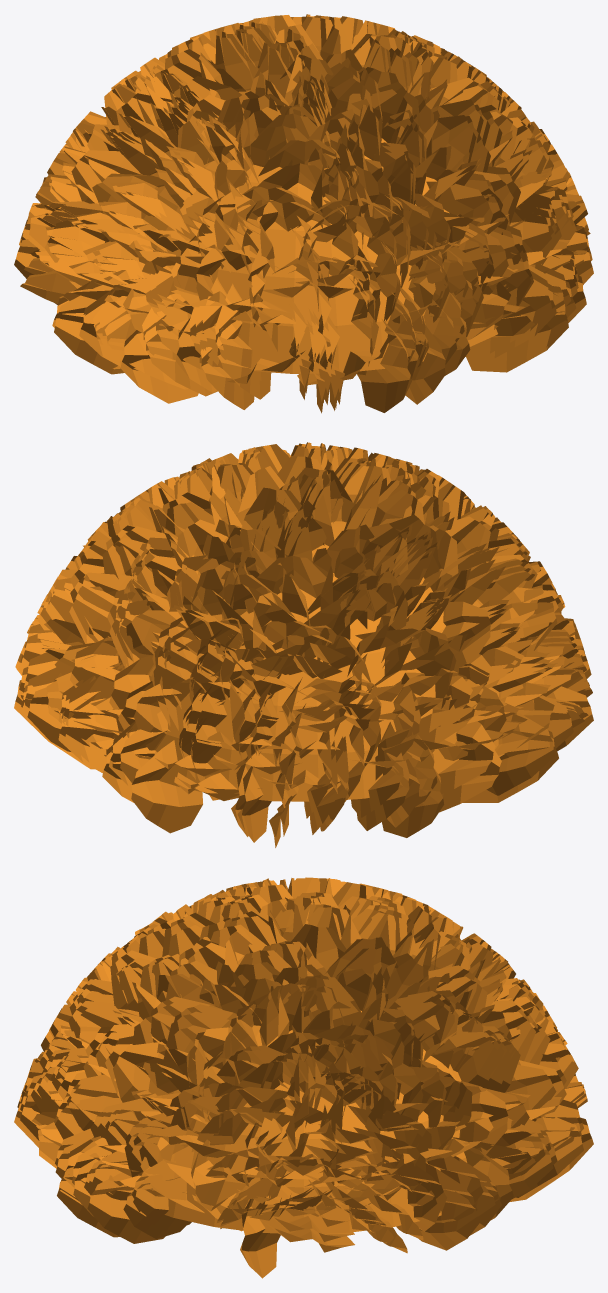
The model's file is Cempasuchil.fbx.
3 renders of one model, top to bottom at view 1: azimuth 30°, elevation 25°; view 2: azimuth 150°, elevation 25°; view 3: azimuth 270°, elevation 25°, orthographic.
Visible parts, largest first — view 1: Base.001, Base.001|Petalo|Dupli|906, Base.001|Petalo|Dupli|1048, Base.001|Petalo|Dupli|1030, Base.001|Petalo|Dupli|860, Base.001|Petalo|Dupli|837, Base.001|Petalo|Dupli|904, Base.001|Petalo|Dupli|862, Base.001|Petalo|Dupli|859, Base.001|Petalo|Dupli|1071, Base.001|Petalo|Dupli|828, Base.001|Petalo|Dupli|962 (+116 smaller); view 2: Base.001, Base.001|Petalo|Dupli|601, Base.001|Petalo|Dupli|1068, Base.001|Petalo|Dupli|1079, Base.001|Petalo|Dupli|1063, Base.001|Petalo|Dupli|1151, Base.001|Petalo|Dupli|1104, Base.001|Petalo|Dupli|651, Base.001|Petalo|Dupli|1112, Base.001|Petalo|Dupli|1170, Base.001|Petalo|Dupli|600, Base.001|Petalo|Dupli|615 (+116 smaller); view 3: Base.001, Base.001|Petalo|Dupli|830, Base.001|Petalo|Dupli|640, Base.001|Petalo|Dupli|822, Base.001|Petalo|Dupli|778, Base.001|Petalo|Dupli|821, Base.001|Petalo|Dupli|674, Base.001|Petalo|Dupli|653, Base.001|Petalo|Dupli|617, Base.001|Petalo|Dupli|716, Base.001|Petalo|Dupli|621, Base.001|Petalo|Dupli|794 (+109 smaller).
Part boxes in pixels (x1=…): Base.001: x1=105, y1=90, x2=497, y2=373; Base.001|Petalo|Dupli|906: x1=357, y1=319, x2=411, y2=412; Base.001|Petalo|Dupli|1048: x1=54, y1=285, x2=124, y2=374; Base.001|Petalo|Dupli|1030: x1=120, y1=330, x2=198, y2=403; Base.001|Petalo|Dupli|860: x1=468, y1=270, x2=551, y2=353; Base.001|Petalo|Dupli|837: x1=431, y1=115, x2=476, y2=169; Base.001|Petalo|Dupli|904: x1=405, y1=325, x2=445, y2=404; Base.001|Petalo|Dupli|862: x1=426, y1=181, x2=492, y2=233; Base.001|Petalo|Dupli|859: x1=467, y1=292, x2=568, y2=369; Base.001|Petalo|Dupli|1071: x1=71, y1=150, x2=140, y2=203; Base.001|Petalo|Dupli|828: x1=509, y1=209, x2=553, y2=269; Base.001|Petalo|Dupli|962: x1=250, y1=126, x2=328, y2=168; Base.001: x1=104, y1=521, x2=504, y2=801; Base.001|Petalo|Dupli|601: x1=131, y1=740, x2=202, y2=833; Base.001|Petalo|Dupli|1068: x1=486, y1=712, x2=554, y2=795; Base.001|Petalo|Dupli|1079: x1=438, y1=721, x2=495, y2=793; Base.001|Petalo|Dupli|1063: x1=443, y1=601, x2=490, y2=673; Base.001|Petalo|Dupli|1151: x1=256, y1=555, x2=326, y2=598; Base.001|Petalo|Dupli|1104: x1=382, y1=748, x2=444, y2=837; Base.001|Petalo|Dupli|651: x1=65, y1=687, x2=114, y2=770; Base.001|Petalo|Dupli|1112: x1=351, y1=722, x2=403, y2=817; Base.001|Petalo|Dupli|1170: x1=237, y1=752, x2=271, y2=842; Base.001|Petalo|Dupli|600: x1=133, y1=683, x2=181, y2=750; Base.001|Petalo|Dupli|615: x1=126, y1=610, x2=207, y2=655; Base.001: x1=148, y1=999, x2=467, y2=1233; Base.001|Petalo|Dupli|830: x1=87, y1=1172, x2=165, y2=1243; Base.001|Petalo|Dupli|640: x1=421, y1=1032, x2=498, y2=1087; Base.001|Petalo|Dupli|822: x1=113, y1=1041, x2=166, y2=1102; Base.001|Petalo|Dupli|778: x1=240, y1=1198, x2=280, y2=1278; Base.001|Petalo|Dupli|821: x1=133, y1=1150, x2=196, y2=1231; Base.001|Petalo|Dupli|674: x1=419, y1=1189, x2=480, y2=1250; Base.001|Petalo|Dupli|653: x1=460, y1=1081, x2=508, y2=1166; Base.001|Petalo|Dupli|617: x1=505, y1=1064, x2=556, y2=1121; Base.001|Petalo|Dupli|716: x1=291, y1=924, x2=346, y2=971; Base.001|Petalo|Dupli|621: x1=515, y1=1116, x2=583, y2=1197; Base.001|Petalo|Dupli|794: x1=191, y1=1139, x2=242, y2=1231.
Bounding box in the file's own units: 242 × 134 × 242.
